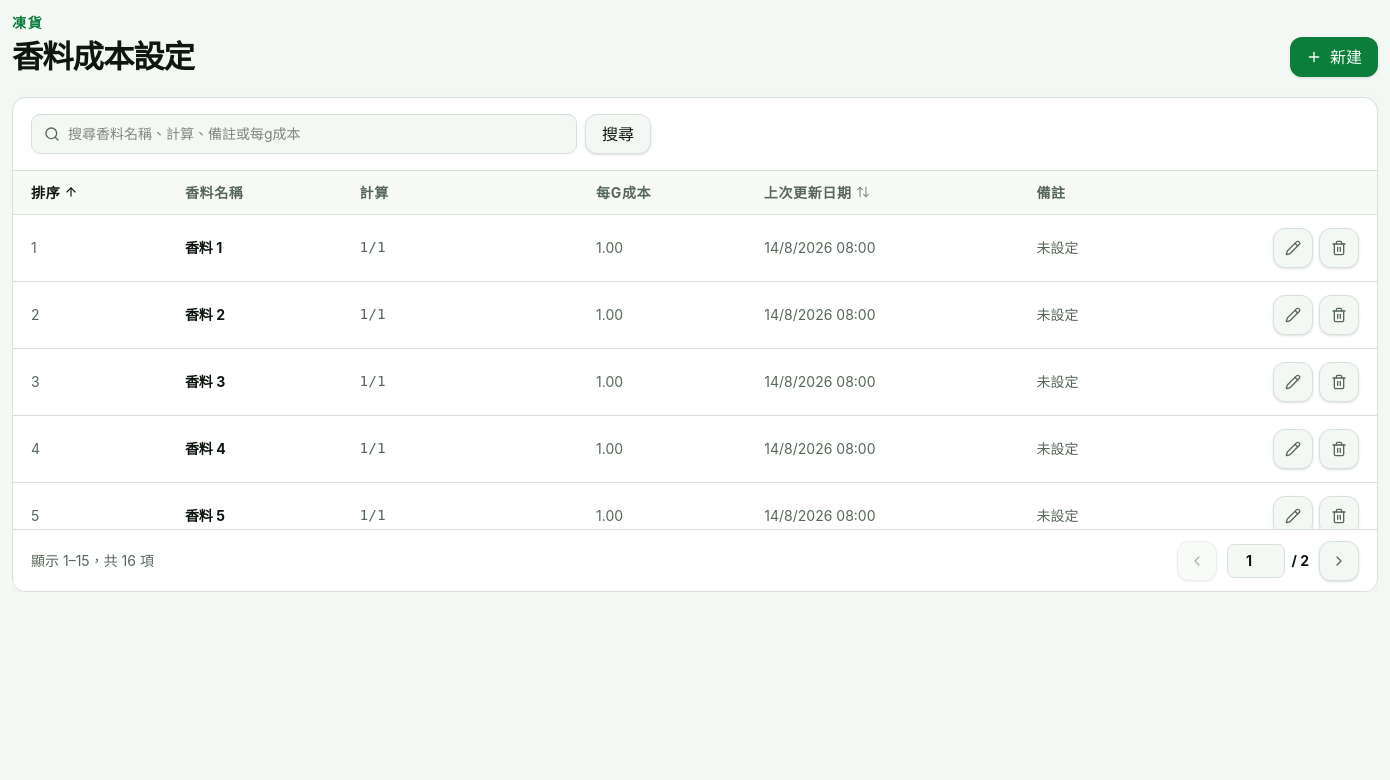
Test case: Seasoning cost settings page › paginates the list into pages of 15
Expected: the text "香料 1" is shown, x1=185 y1=239 x2=222 y2=256
Expected: the text "香料 16" is not shown
Step 1. Click the button named "下一頁" → (1339, 560), box x1=1319 y1=540 x2=1359 y2=580
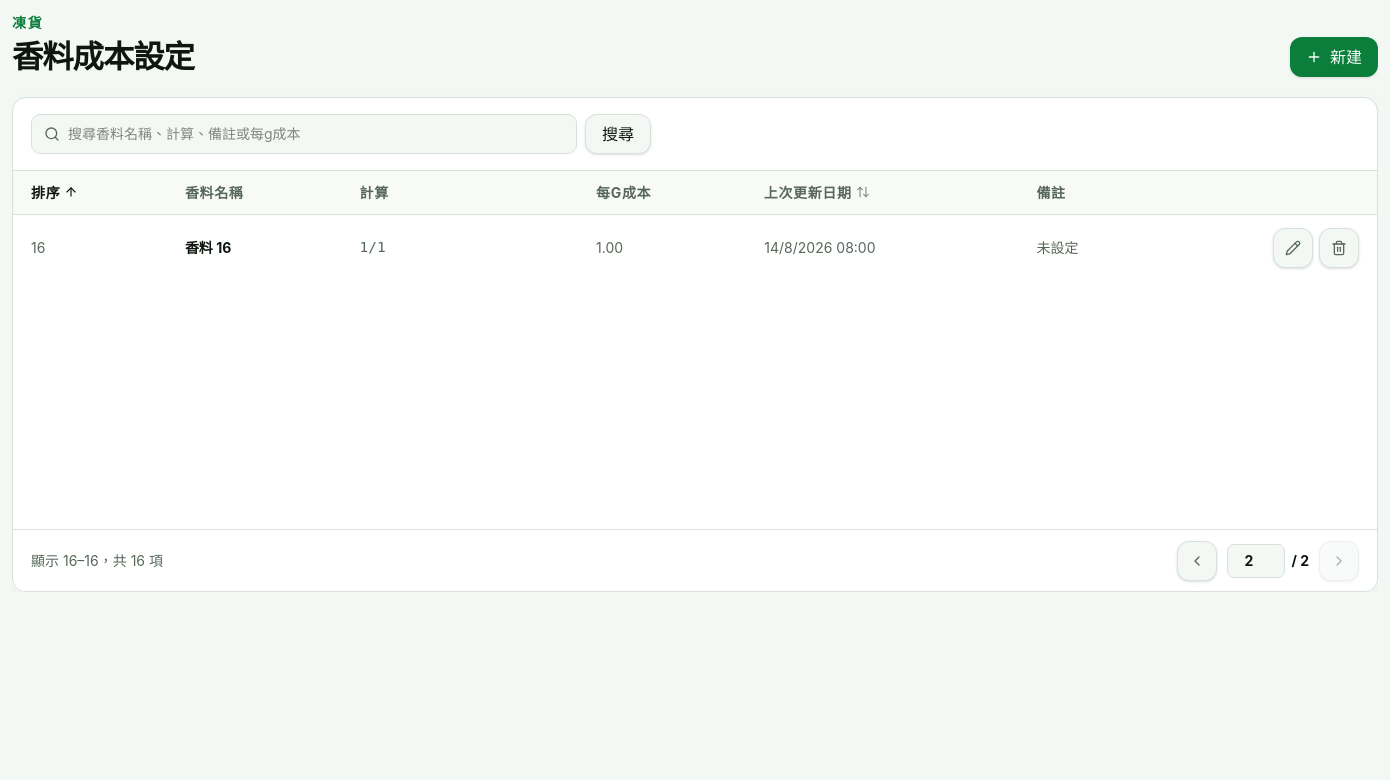
Expected: the text "香料 16" is shown, x1=185 y1=239 x2=231 y2=256
Expected: the text "顯示 16–16，共 16 項" is shown, x1=31 y1=550 x2=163 y2=571
